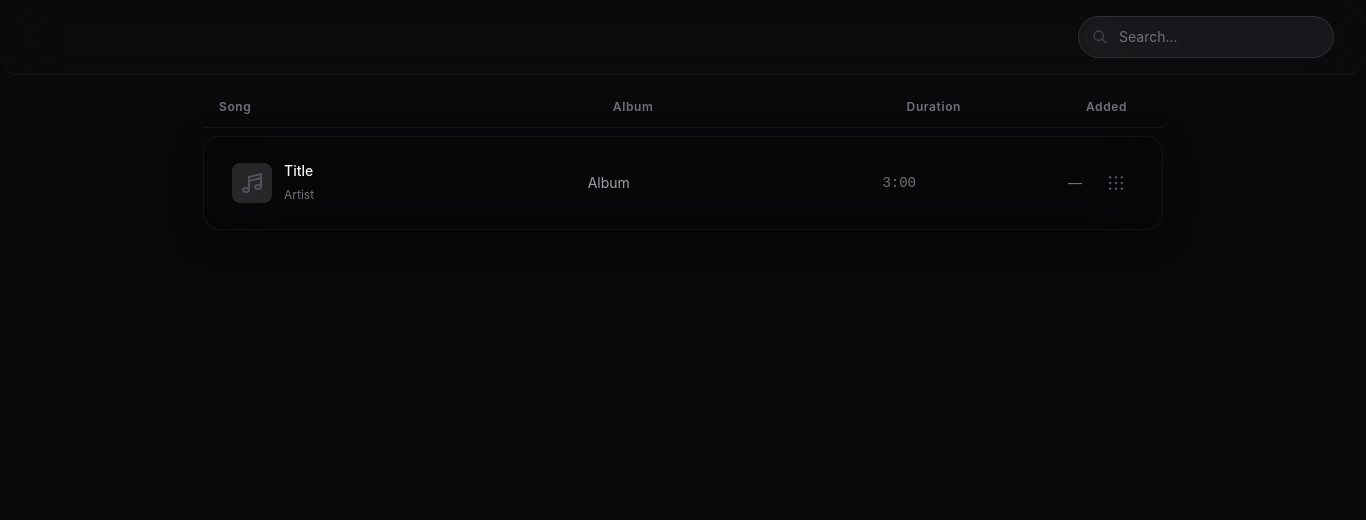
Test: LibraryTable context menu › button menu portals to body at z-[90]
This screenshot has width=1366, height=520.
Click the button titled "More actions" at (1116, 183), box [1098, 165, 1134, 201]
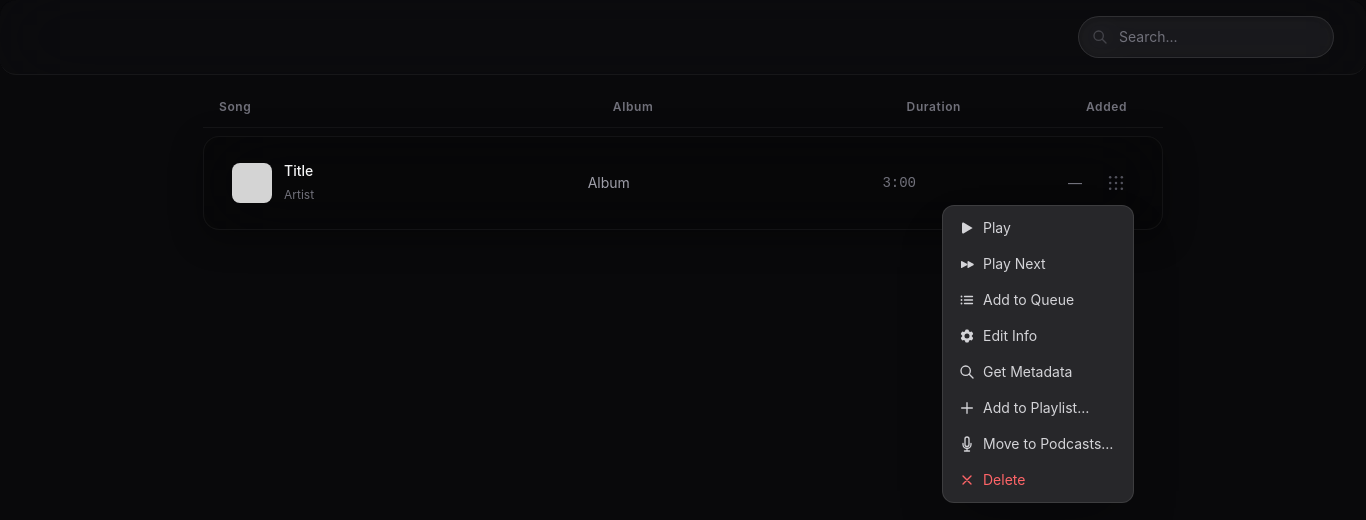
Expected: the text "Play Next" is shown, [943, 246, 1133, 282]
